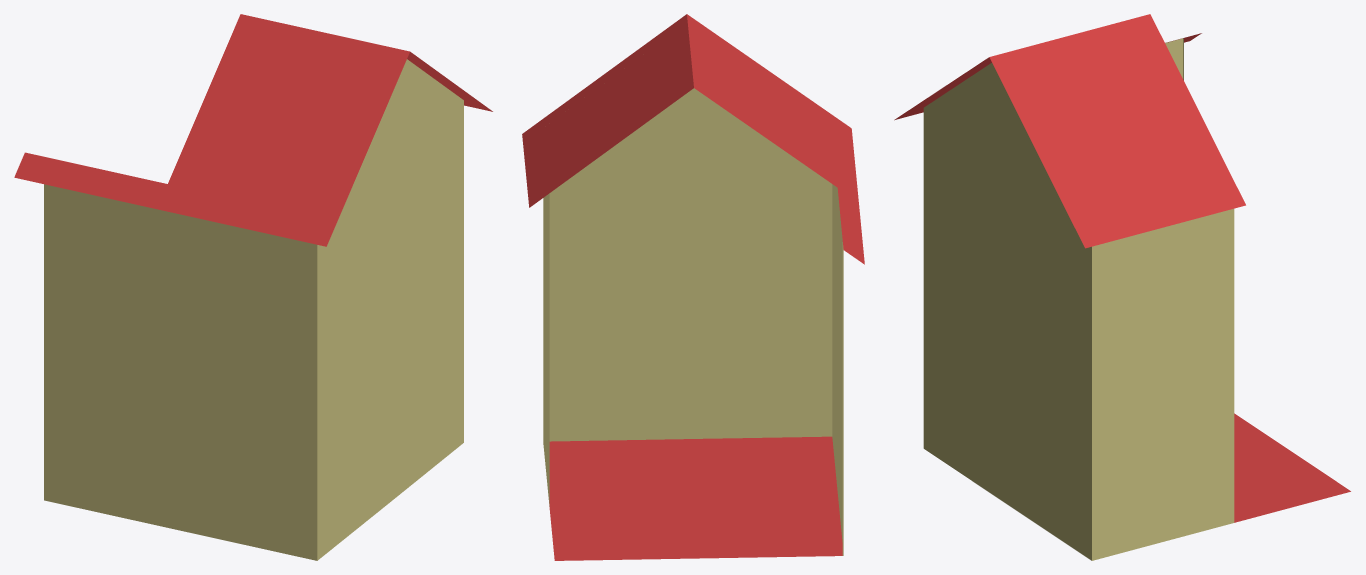
The picture shows the model from 3 angles, left to right: view 1: azimuth 30°, elevation 25°; view 2: azimuth 150°, elevation 25°; view 3: azimuth 270°, elevation 25°; orthographic projection. The views are drawn at different scales.
Bounding box in the file's own units: 11.13 × 10.39 × 11.33.
